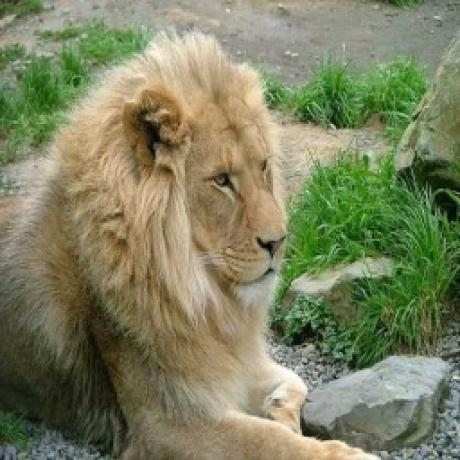Lion: (0, 23, 373, 460)
